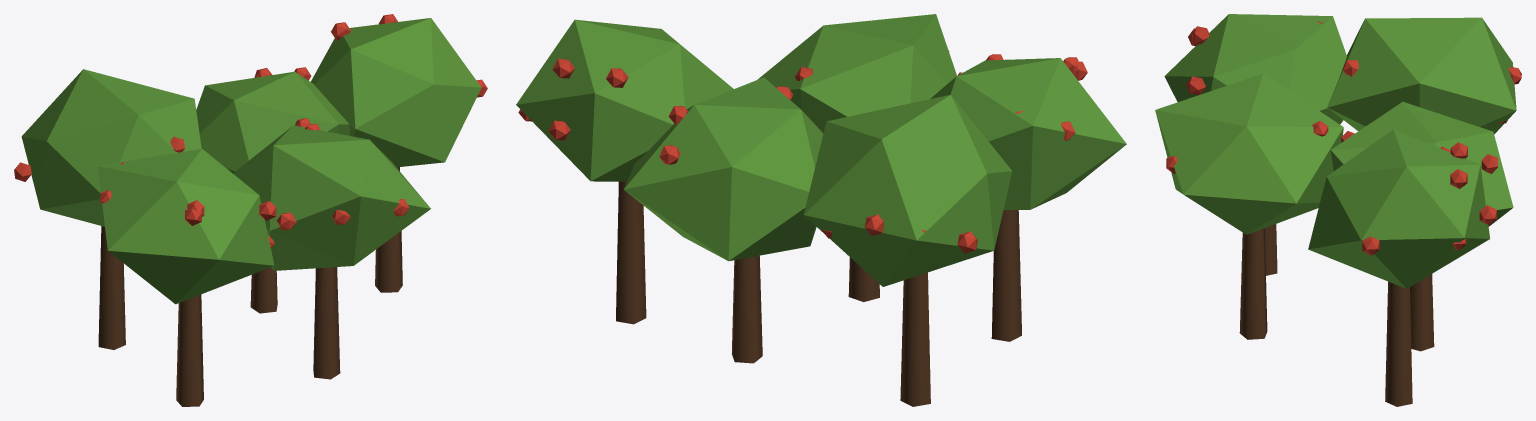
File: sawyer_orchard_b.glb
3 renders of one model, left to right at view 1: azimuth 30°, elevation 25°; view 2: azimuth 150°, elevation 25°; view 3: azimuth 270°, elevation 25°, orthographic. The views are drawn at different scales.
Parts seen in each view (by area): view 1: fruit_3_crown, fruit_4_crown, fruit_2_crown, fruit_0_crown, fruit_1_crown, fruit_3_trunk, fruit_4_trunk, fruit_0_trunk, fruit_2_trunk, fruit_1_trunk; view 2: fruit_0_crown, fruit_1_crown, fruit_2_crown, fruit_3_crown, fruit_4_crown, fruit_2_trunk, fruit_0_trunk, fruit_3_trunk, fruit_1_trunk, fruit_4_trunk; view 3: fruit_4_crown, fruit_2_crown, fruit_0_crown, fruit_3_crown, fruit_1_crown, fruit_2_trunk, fruit_4_trunk, fruit_1_trunk, fruit_3_trunk.
Boxes of the visible parts, x1=… form: fruit_3_crown: x1=97, y1=149, x2=274, y2=304; fruit_4_crown: x1=233, y1=125, x2=430, y2=270; fruit_2_crown: x1=311, y1=18, x2=481, y2=167; fruit_0_crown: x1=21, y1=69, x2=201, y2=226; fruit_1_crown: x1=196, y1=71, x2=349, y2=173; fruit_3_trunk: x1=176, y1=294, x2=203, y2=406; fruit_4_trunk: x1=313, y1=267, x2=340, y2=379; fruit_0_trunk: x1=98, y1=226, x2=125, y2=349; fruit_2_trunk: x1=375, y1=167, x2=402, y2=292; fruit_1_trunk: x1=250, y1=267, x2=277, y2=313; fruit_0_crown: x1=803, y1=94, x2=1012, y2=286; fruit_1_crown: x1=624, y1=77, x2=823, y2=261; fruit_2_crown: x1=516, y1=19, x2=733, y2=181; fruit_3_crown: x1=930, y1=58, x2=1126, y2=209; fruit_4_crown: x1=757, y1=14, x2=956, y2=133; fruit_2_trunk: x1=616, y1=181, x2=646, y2=324; fruit_0_trunk: x1=900, y1=272, x2=930, y2=406; fruit_3_trunk: x1=991, y1=210, x2=1021, y2=341; fruit_1_trunk: x1=731, y1=255, x2=762, y2=363; fruit_4_trunk: x1=848, y1=257, x2=879, y2=301; fruit_4_crown: x1=1155, y1=73, x2=1343, y2=234; fruit_2_crown: x1=1308, y1=129, x2=1490, y2=288; fruit_0_crown: x1=1327, y1=17, x2=1516, y2=134; fruit_3_crown: x1=1164, y1=14, x2=1346, y2=124; fruit_1_crown: x1=1330, y1=102, x2=1513, y2=226; fruit_2_trunk: x1=1385, y1=281, x2=1412, y2=406; fruit_4_trunk: x1=1239, y1=228, x2=1267, y2=339; fruit_1_trunk: x1=1410, y1=274, x2=1434, y2=351; fruit_3_trunk: x1=1264, y1=224, x2=1277, y2=275.
Bounding box in the file's own units: 3.5 × 1.93 × 2.5.
